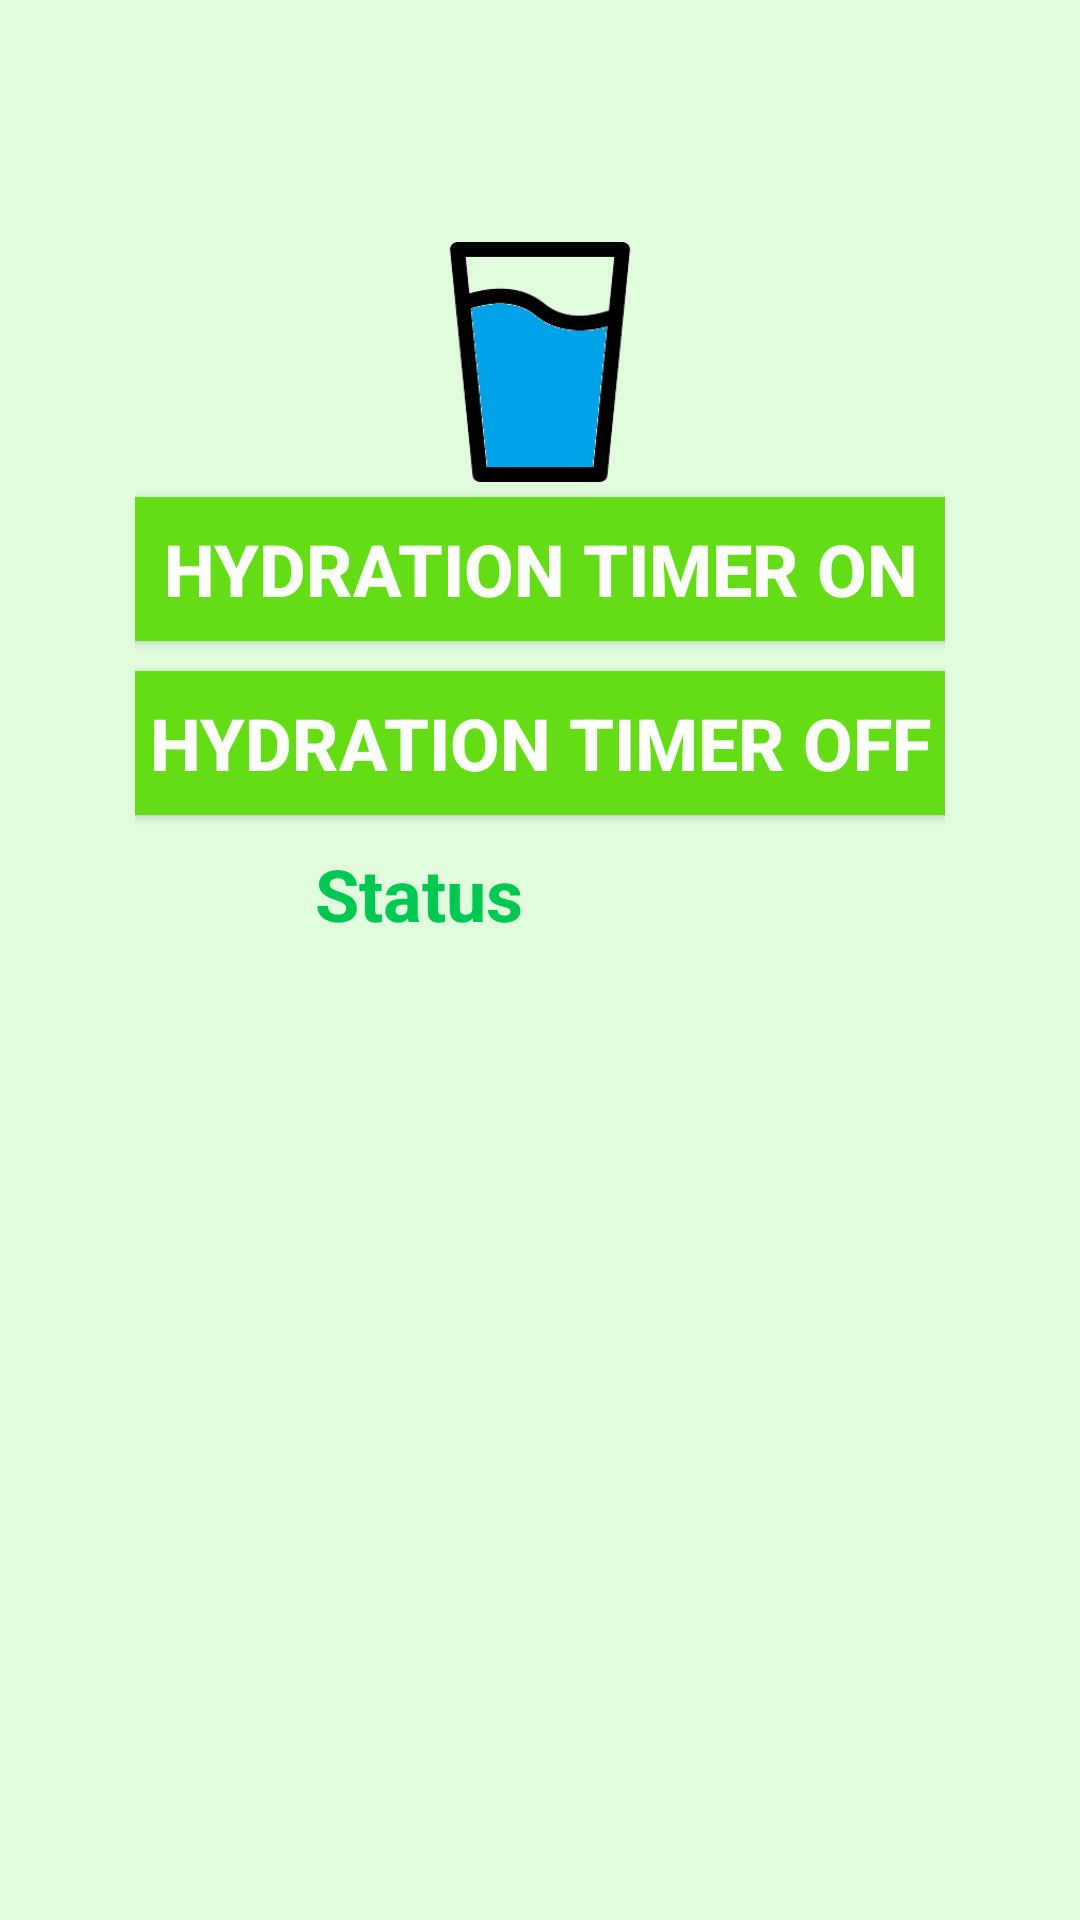

Screen size 1080 × 1920. Icon name, then its box in pixels as (x1, y1, x2, y2):
glass: (449, 242, 631, 482)
